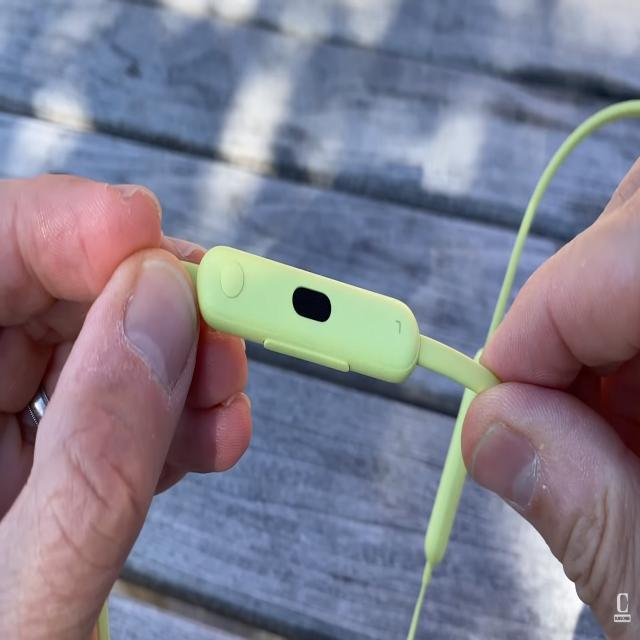Neckband: (178, 98, 640, 638)
